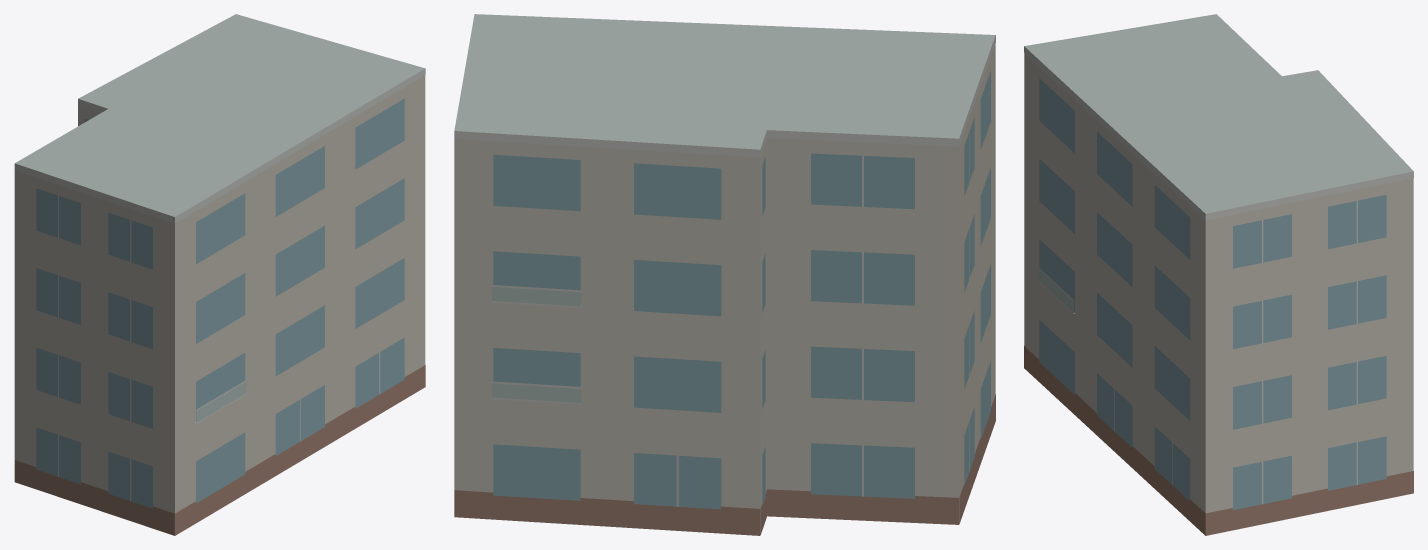
Rendered from survey-upis-32683276.glb.
The picture shows the model from 3 angles, left to right: view 1: azimuth 30°, elevation 25°; view 2: azimuth 150°, elevation 25°; view 3: azimuth 270°, elevation 25°; orthographic projection. The views are drawn at different scales.
Visible parts, largest first — view 1: survey-upis-32683276.tmp; view 2: survey-upis-32683276.tmp; view 3: survey-upis-32683276.tmp.
Boxes of the visible parts, x1=… form: survey-upis-32683276.tmp: x1=14, y1=14, x2=425, y2=535; survey-upis-32683276.tmp: x1=454, y1=14, x2=995, y2=535; survey-upis-32683276.tmp: x1=1024, y1=14, x2=1413, y2=535.
Bounding box in the file's own units: 15.98 × 12 × 13.17.
